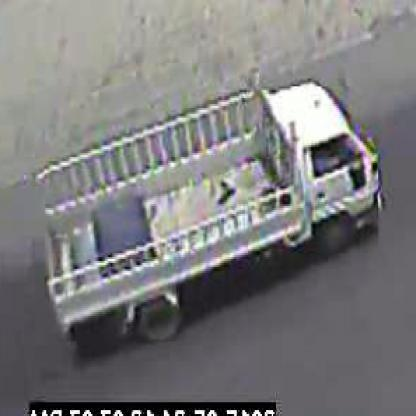truck: (45, 88, 380, 345)
